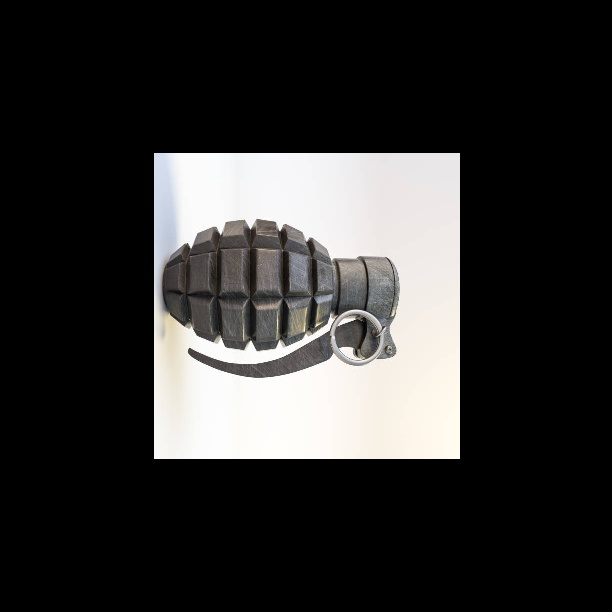e1: (164, 218, 401, 384)
